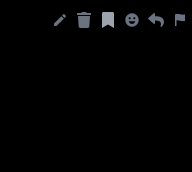
TopicDetailsCommentItemActions › should open emoji reation popover on click
This screenshot has width=192, height=172.
Click the icon with test id "topic-emoji-popover" at {"x": 132, "y": 20}, box 124,12 -> 140,28
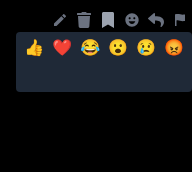
Expected: the text "👍" is shown, 24,36 -> 44,60
